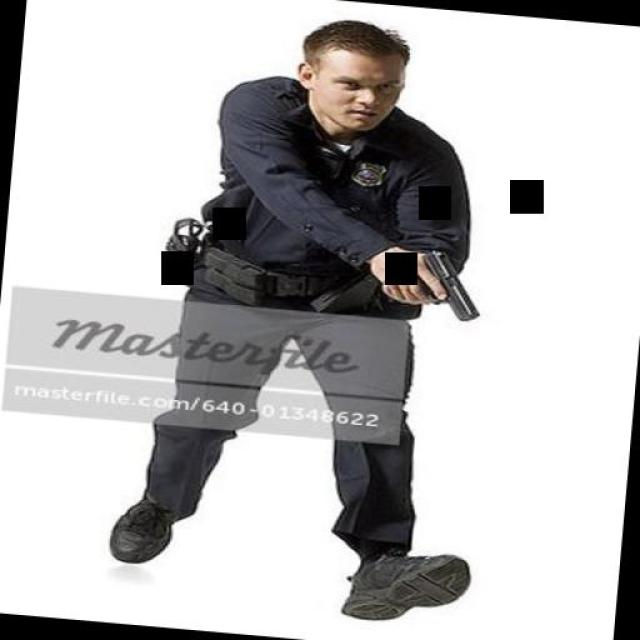gun: (384, 238, 478, 324)
